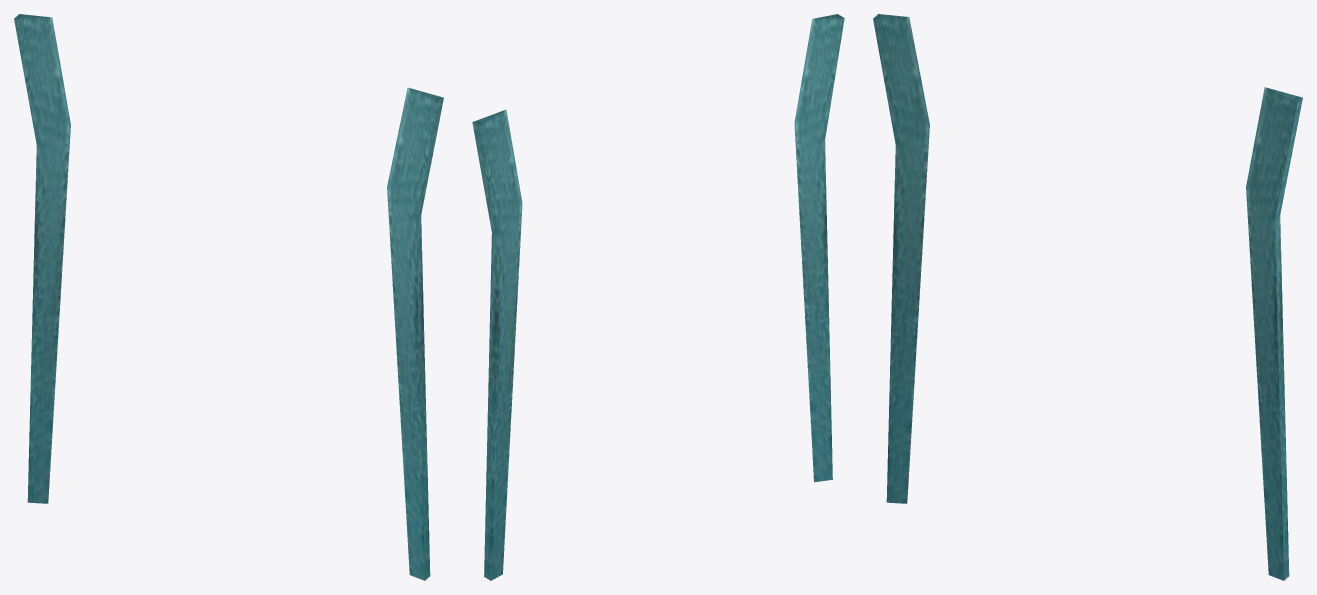
The model's file is octogate.glb.
The picture shows the model from 3 angles, left to right: view 1: azimuth 90°, elevation 25°; view 2: azimuth 150°, elevation 25°; view 3: azimuth 270°, elevation 25°; orthographic projection. The views are drawn at different scales.
Visible parts, largest first — view 1: octogate; view 2: octogate; view 3: octogate.
Boxes of the visible parts, left/top/right/bottom form: octogate: left=14, top=14, right=443, bottom=580; octogate: left=472, top=14, right=844, bottom=580; octogate: left=873, top=14, right=1302, bottom=580.
Size of the model in its own units: 125 by 320 by 256.
1 material, 1 textured.
